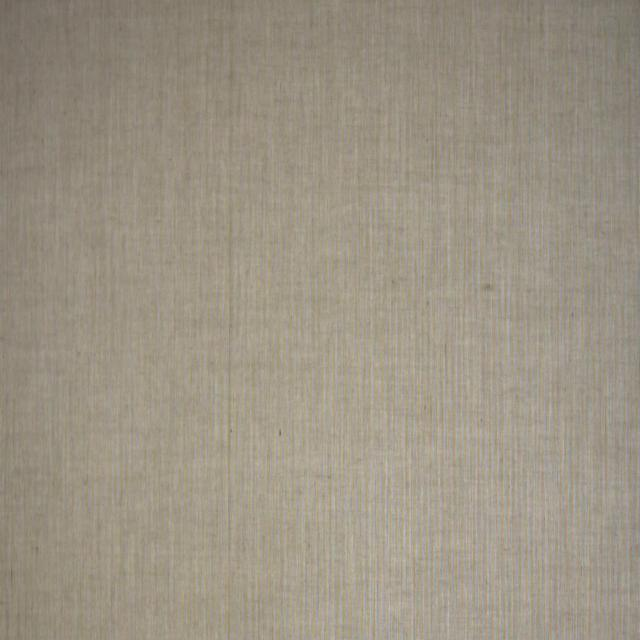dirty: (480, 283, 494, 292)
